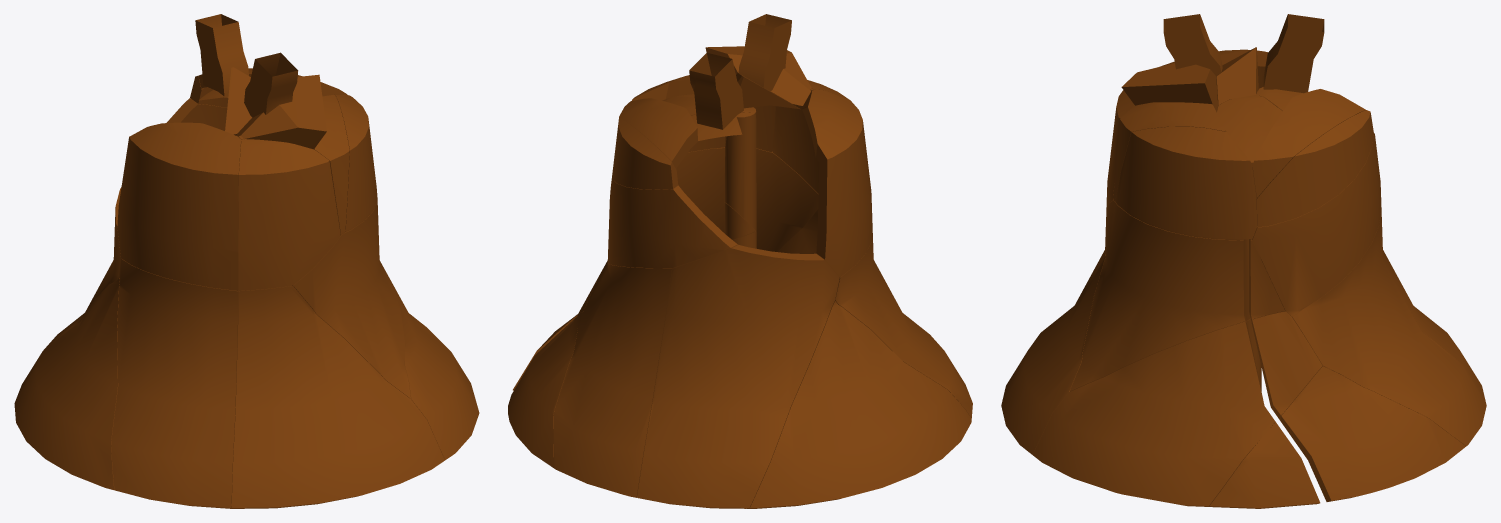
Rendered from BellFragments.fbx.
The picture shows the model from 3 angles, left to right: view 1: azimuth 30°, elevation 25°; view 2: azimuth 150°, elevation 25°; view 3: azimuth 270°, elevation 25°; orthographic projection. The views are drawn at different scales.
Parts seen in each view (by area): view 1: Cylinder.001_cell.027, Cylinder.001_cell, Cylinder.001_cell.006, Cylinder.001_cell.009, Cylinder.001_cell.021, Cylinder.001_cell.023, Cylinder.001_cell.038, Cylinder.001_cell.017, Cylinder.001_cell.018, Cylinder.001_cell.036, Cylinder.001_cell.001, Cylinder.001_cell.012 (+5 smaller); view 2: Cylinder.001_cell.039, Cylinder.001_cell.009, Cylinder.001_cell.024, Cylinder.001_cell.006, Cylinder.001_cell.029, Cylinder.001_cell.023, Cylinder.001_cell, Cylinder.001_cell.016, Cylinder.001_cell.017, Cylinder.001_cell.008, Cylinder.001_cell.028, Cylinder.001_cell.036 (+8 smaller); view 3: Cylinder.001_cell.038, Cylinder.001_cell.023, Cylinder.001_cell.024, Cylinder.001_cell.016, Cylinder.001_cell.018, Cylinder.001_cell.029, Cylinder.001_cell.027, Cylinder.001_cell.028, Cylinder.001_cell.017, Cylinder.001_cell.037, Cylinder.001_cell.008, Cylinder.001_cell.019 (+8 smaller).
Part boxes in pixels (<box>): Cylinder.001_cell.027: <box>231,286,444,508</box>; Cylinder.001_cell: <box>111,259,238,508</box>; Cylinder.001_cell.006: <box>117,122,241,290</box>; Cylinder.001_cell.009: <box>14,276,119,490</box>; Cylinder.001_cell.021: <box>238,139,340,290</box>; Cylinder.001_cell.023: <box>292,201,410,398</box>; Cylinder.001_cell.038: <box>391,281,479,460</box>; Cylinder.001_cell.017: <box>236,53,326,149</box>; Cylinder.001_cell.018: <box>335,94,377,231</box>; Cylinder.001_cell.036: <box>195,15,248,96</box>; Cylinder.001_cell.001: <box>314,95,349,235</box>; Cylinder.001_cell.012: <box>225,67,252,134</box>; Cylinder.001_cell.039: <box>637,244,839,508</box>; Cylinder.001_cell.009: <box>746,301,971,508</box>; Cylinder.001_cell.024: <box>553,261,672,497</box>; Cylinder.001_cell.006: <box>802,89,872,277</box>; Cylinder.001_cell.029: <box>607,175,737,268</box>; Cylinder.001_cell.023: <box>676,147,818,251</box>; Cylinder.001_cell: <box>835,233,972,417</box>; Cylinder.001_cell.016: <box>508,312,582,467</box>; Cylinder.001_cell.017: <box>705,14,811,105</box>; Cylinder.001_cell.008: <box>619,98,697,168</box>; Cylinder.001_cell.028: <box>612,117,678,189</box>; Cylinder.001_cell.036: <box>689,53,743,129</box>; Cylinder.001_cell.038: <box>1033,321,1275,506</box>; Cylinder.001_cell.023: <box>1069,200,1284,391</box>; Cylinder.001_cell.024: <box>1284,210,1486,446</box>; Cylinder.001_cell.016: <box>1280,366,1465,501</box>; Cylinder.001_cell.018: <box>1115,126,1256,240</box>; Cylinder.001_cell.029: <box>1252,132,1381,316</box>; Cylinder.001_cell.027: <box>1001,250,1105,454</box>; Cylinder.001_cell.028: <box>1256,110,1373,227</box>; Cylinder.001_cell.017: <box>1121,14,1222,111</box>; Cylinder.001_cell.037: <box>1210,422,1320,508</box>; Cylinder.001_cell.008: <box>1252,89,1365,199</box>; Cylinder.001_cell.019: <box>1251,311,1322,420</box>.
Bounding box in the file's own units: 304 × 331 × 304.
